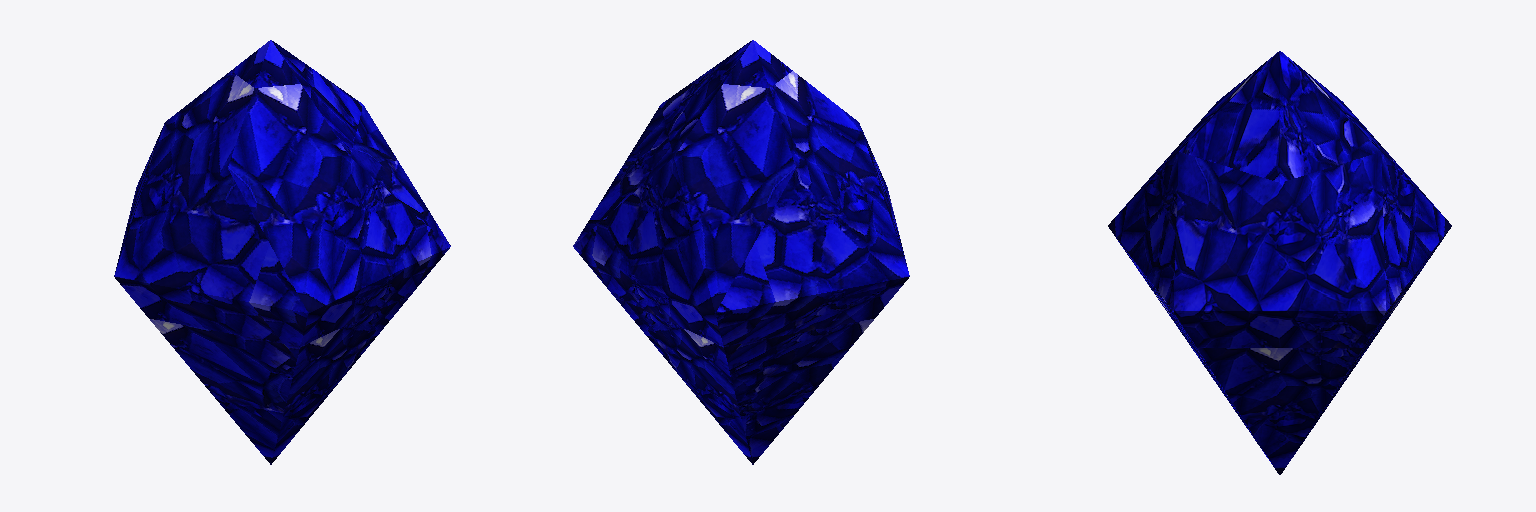
3 views of the same model, side by side, from view 1: azimuth 30°, elevation 25°; view 2: azimuth 150°, elevation 25°; view 3: azimuth 270°, elevation 25° (orthographic).
Parts seen in each view (by area): view 1: Icosphere; view 2: Icosphere; view 3: Icosphere.
Part boxes in pixels (bbox=[...]): Icosphere: bbox=[114, 40, 450, 464]; Icosphere: bbox=[573, 40, 909, 464]; Icosphere: bbox=[1108, 51, 1451, 474].
Size of the model in its own units: 0.1388 by 0.1988 by 0.1459.
1 materials, 1 textured.